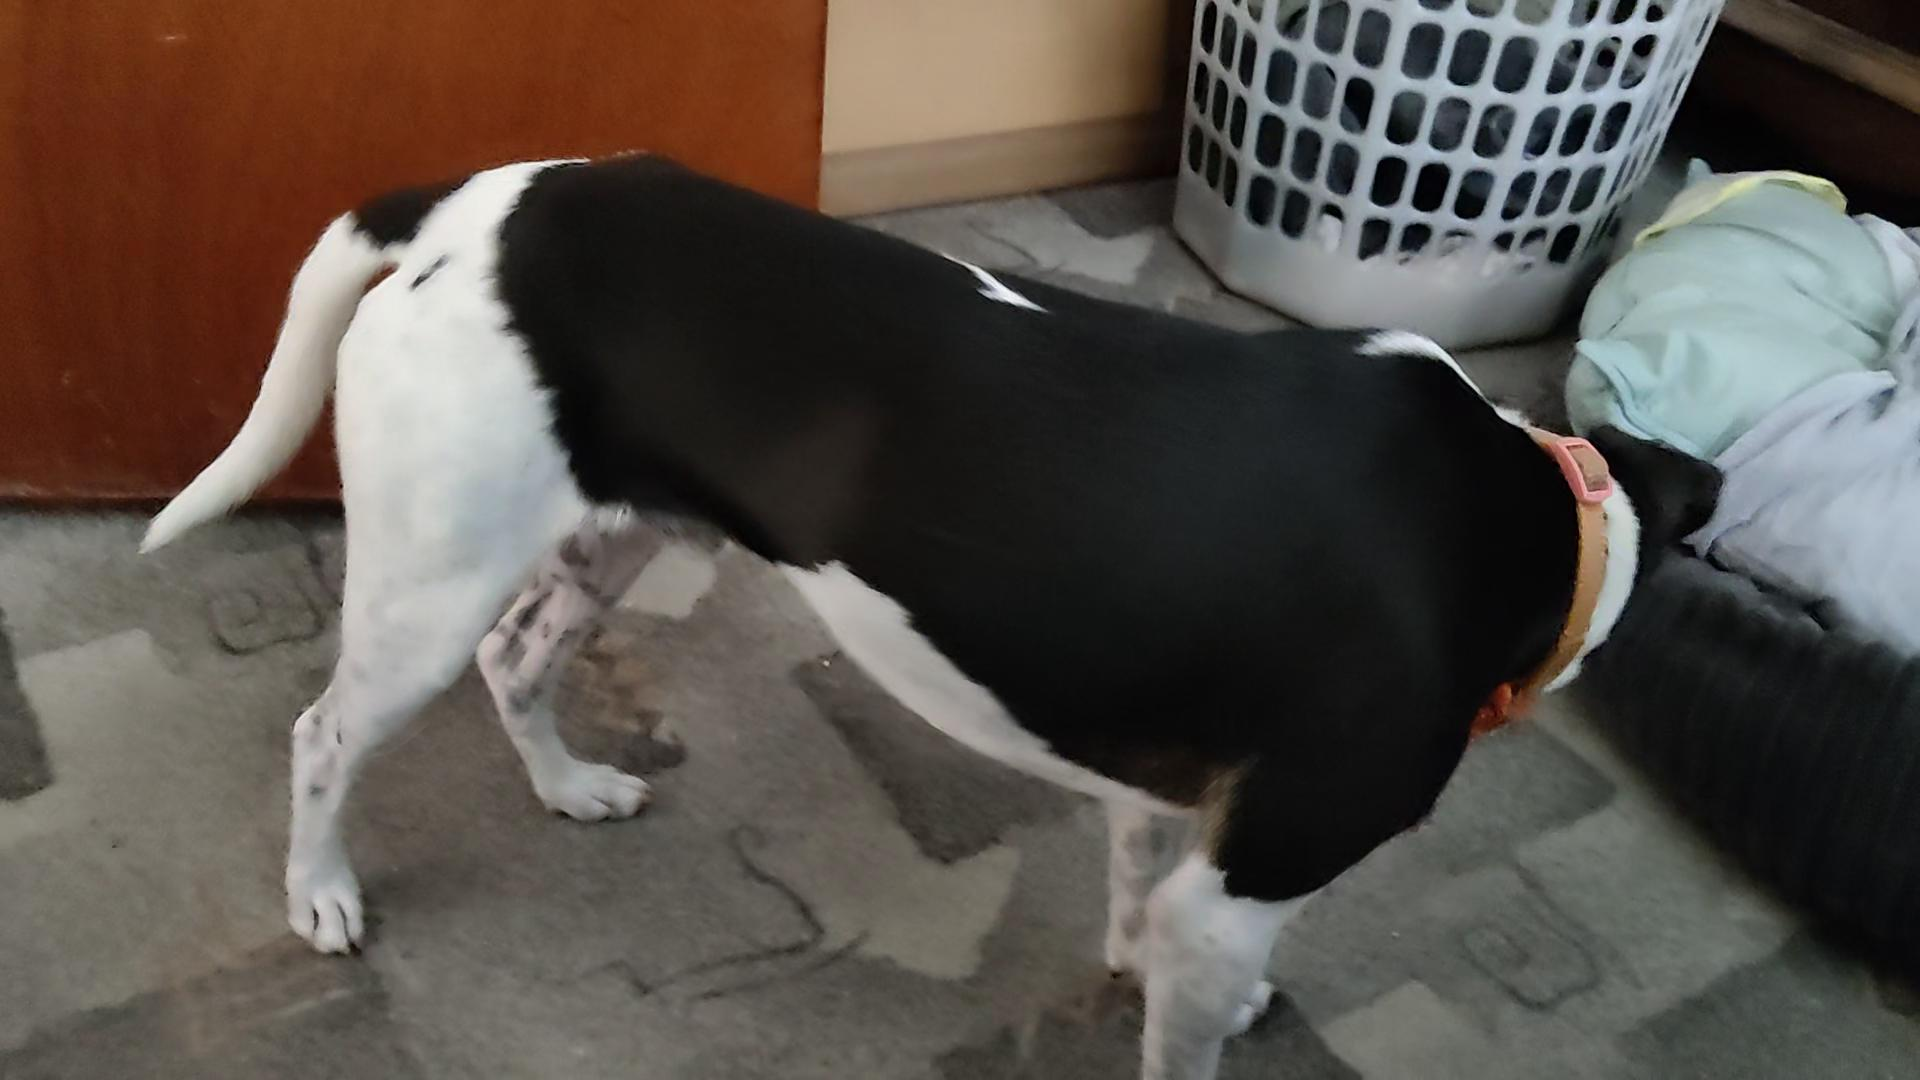Dog: (133, 142, 1727, 1079)
